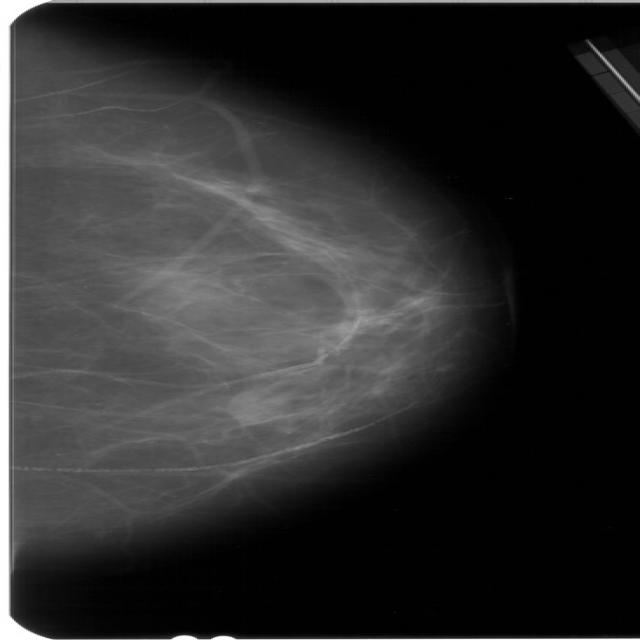tumour: (225, 387, 284, 424)
